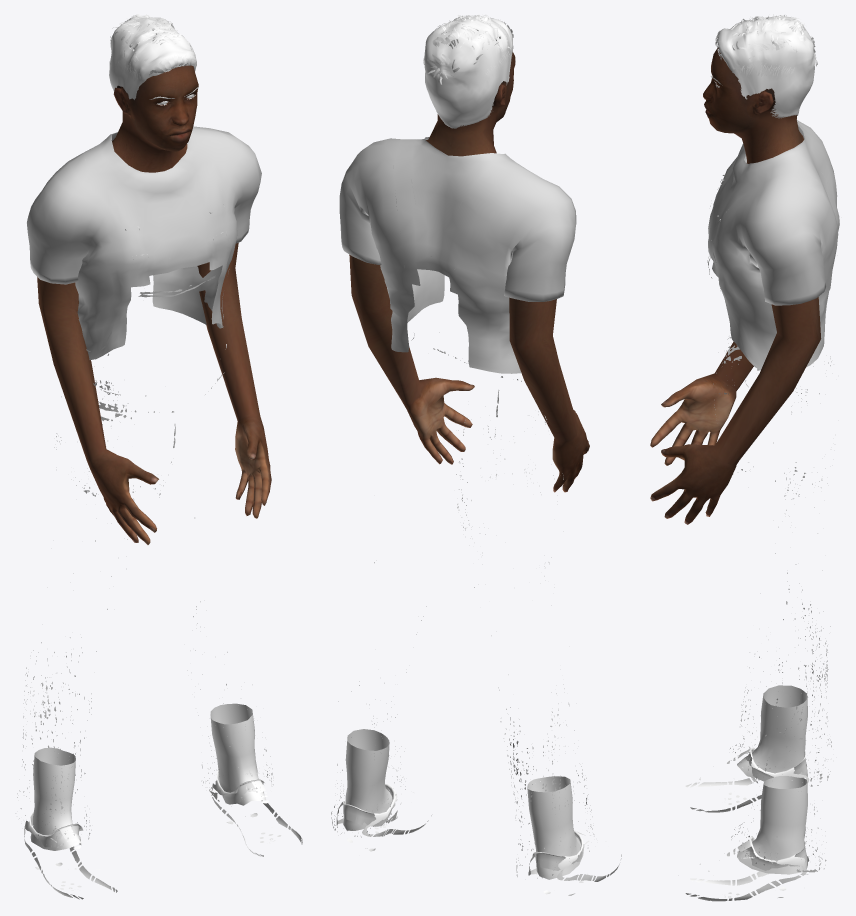
The model's file is ped05.fbx.
The picture shows the model from 3 angles, left to right: view 1: azimuth 30°, elevation 25°; view 2: azimuth 150°, elevation 25°; view 3: azimuth 270°, elevation 25°; orthographic projection. The views are drawn at different scales.
Visible parts, largest first — view 1: Human.male_worksuit01, Human.male1591, Human.shoes06, Human.short01; view 2: Human.male_worksuit01, Human.male1591, Human.shoes06, Human.short01; view 3: Human.male_worksuit01, Human.male1591, Human.shoes06, Human.short01.
Part boxes in pixels (x1=…): Human.male_worksuit01: x1=15, y1=126, x2=273, y2=847; Human.male1591: x1=37, y1=65, x2=271, y2=544; Human.shoes06: x1=24, y1=703, x2=302, y2=899; Human.short01: x1=109, y1=14, x2=196, y2=99; Human.male_worksuit01: x1=331, y1=137, x2=594, y2=878; Human.male1591: x1=349, y1=52, x2=589, y2=492; Human.shoes06: x1=336, y1=729, x2=621, y2=895; Human.short01: x1=423, y1=14, x2=513, y2=128; Human.male_worksuit01: x1=707, y1=120, x2=839, y2=872; Human.male1591: x1=650, y1=47, x2=821, y2=524; Human.shoes06: x1=678, y1=685, x2=809, y2=901; Human.short01: x1=715, y1=14, x2=817, y2=118.
Size of the model in its own units: 55.71 by 184 by 38.36.
